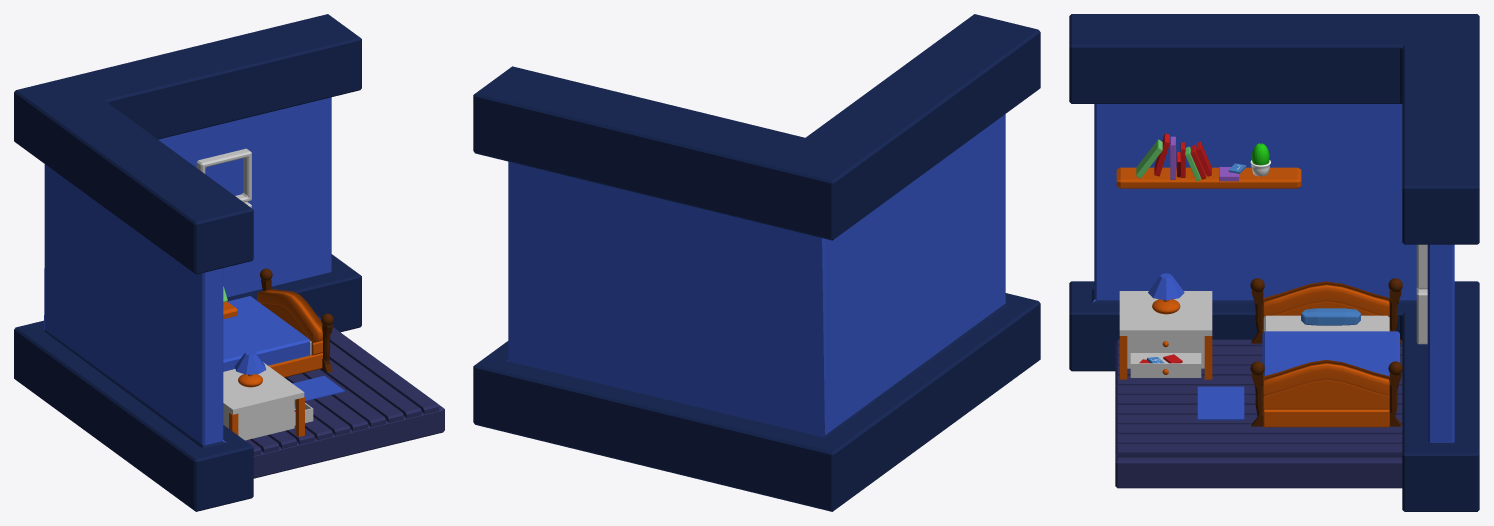
Rendered from isometric room.fbx.
3 renders of one model, left to right at view 1: azimuth 30°, elevation 25°; view 2: azimuth 150°, elevation 25°; view 3: azimuth 270°, elevation 25°, orthographic. The views are drawn at different scales.
Visible parts, largest first — view 1: Cube003, Cube003_1, san, nen, Cube, nem1002, nem3, tranh2, nem1, cau, Plane001, Cube001 (+2 smaller); view 2: Cube003, Cube003_1; view 3: Cube003, Cube003_1, san, nen, Cube, nem3, nem1002, nem2, ke, cau, nem1, Plane001 (+6 smaller).
Part boxes in pixels (x1,y1,x2,y2): Cube003: (14,14,361,511); Cube003_1: (44,97,332,445); san: (245,315,439,455); nen: (253,405,444,478); Cube: (223,362,313,440); nem1002: (223,296,310,371); nem3: (257,289,322,342); tranh2: (196,148,251,202); nem1: (269,353,322,377); cau: (260,268,333,372); Plane001: (292,375,344,401); Cube001: (229,397,304,436); Cube003: (473,14,1040,511); Cube003_1: (507,114,1005,437); Cube003: (1069,14,1479,511); Cube003_1: (1092,104,1454,442); san: (1115,339,1402,458); nen: (1115,457,1402,488); Cube: (1119,291,1212,377); nem3: (1263,281,1389,395); nem1002: (1262,331,1399,381); nem2: (1263,301,1389,409); ke: (1116,167,1301,188); cau: (1250,278,1402,426); nem1: (1263,409,1389,427); Plane001: (1197,386,1244,420).
Bounding box in the file's own units: 2.66 × 2.34 × 2.66.
